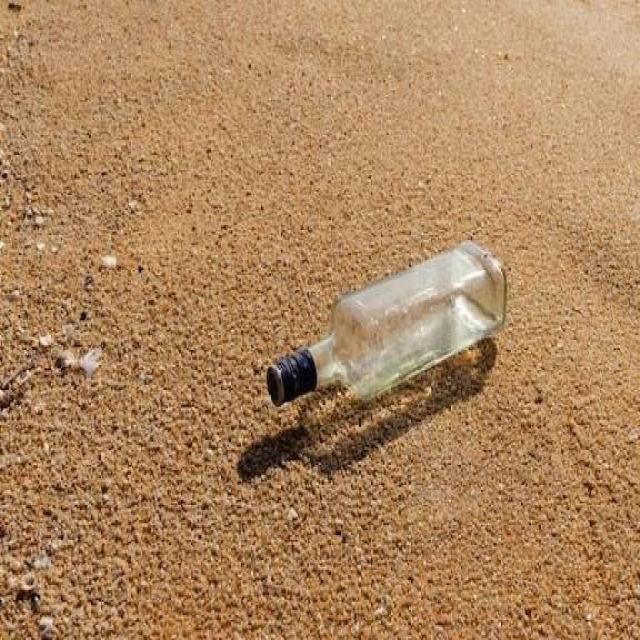glass: (261, 240, 525, 518)
